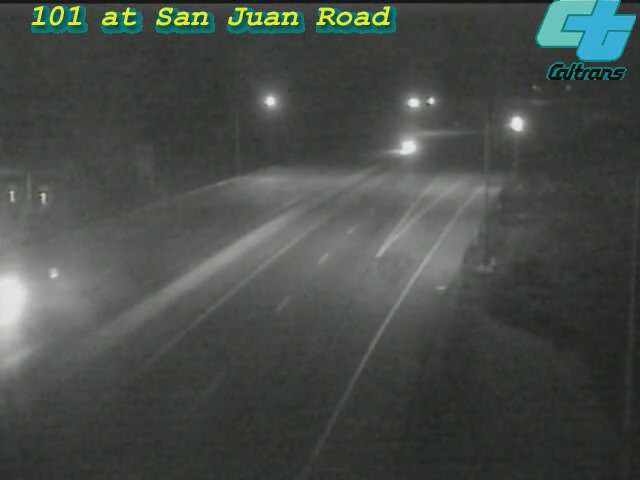vehicle: (1, 260, 48, 340), (383, 123, 433, 173), (490, 100, 540, 150)
